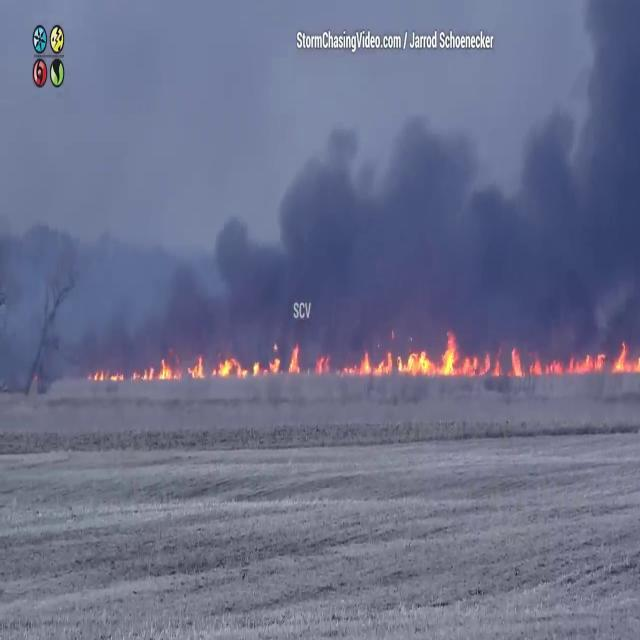Fire: (349, 332, 640, 382), (86, 346, 272, 386)
Smoke: (53, 106, 640, 378)
